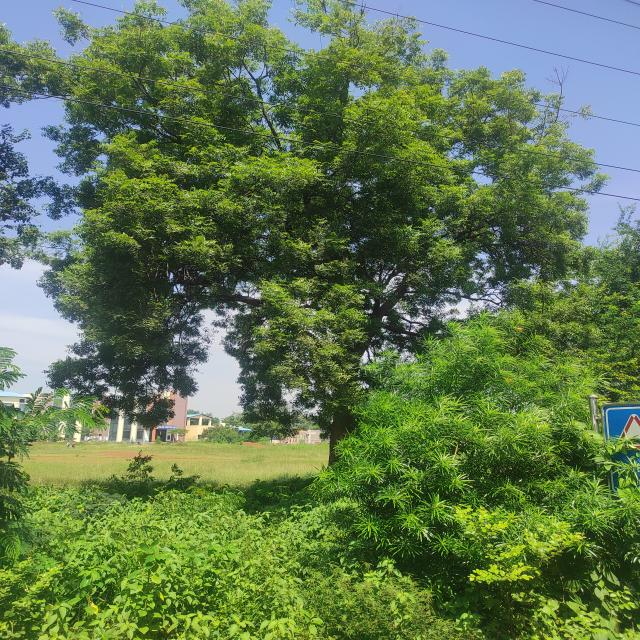Neem-Tree: (74, 18, 572, 338)
